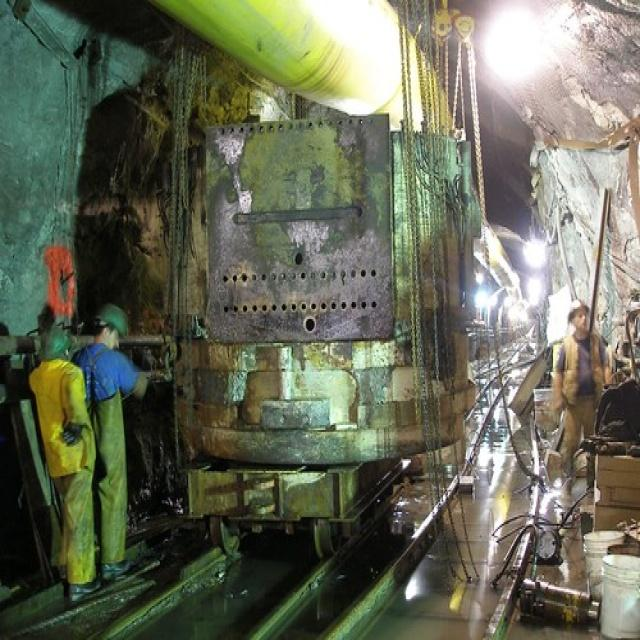helmet: (34, 428, 75, 476), (95, 405, 132, 451), (566, 395, 588, 420)
